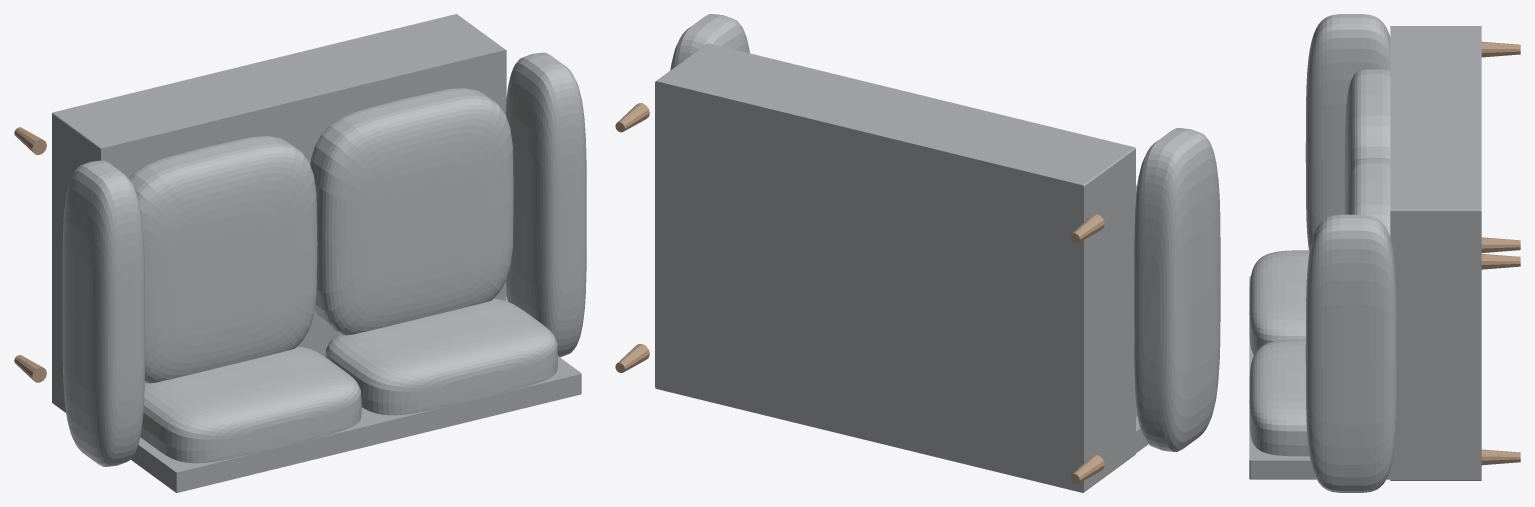
Rendered from sofa_2.glb.
3 views of the same model, side by side, from view 1: azimuth 30°, elevation 25°; view 2: azimuth 150°, elevation 25°; view 3: azimuth 270°, elevation 25° (orthographic). The views are drawn at different scales.
Parts seen in each view (by area): view 1: seat_cushion_1, seat_cushion_0, frame, arm, arm_6, back_cushion_0, back_cushion_1, back_frame; view 2: frame, arm, arm_6; view 3: frame, arm_6, arm, back_cushion_1, back_cushion_0, seat_cushion_0, seat_cushion_1, back_frame, leg, leg_1, leg_2, leg_3.
Boxes of the visible parts, x1,y1,x2,y2 form: seat_cushion_1: (310, 88, 513, 335); seat_cushion_0: (129, 136, 317, 383); frame: (52, 14, 506, 412); arm: (62, 160, 144, 466); arm_6: (505, 52, 586, 357); back_cushion_0: (140, 346, 361, 463); back_cushion_1: (325, 298, 557, 415); back_frame: (130, 356, 581, 492); frame: (655, 43, 1135, 492); arm: (1134, 128, 1220, 451); arm_6: (670, 14, 749, 70); frame: (1390, 26, 1481, 480); arm_6: (1305, 214, 1397, 492); arm: (1305, 14, 1390, 250); back_cushion_1: (1249, 339, 1309, 456); back_cushion_0: (1249, 250, 1309, 354); seat_cushion_0: (1344, 69, 1390, 214); seat_cushion_1: (1345, 158, 1390, 237); back_frame: (1249, 276, 1402, 479); leg: (1481, 254, 1520, 269); leg_1: (1481, 41, 1520, 57); leg_2: (1481, 449, 1520, 465); leg_3: (1481, 237, 1520, 252).
Bounding box in the file's own units: 1.5 × 0.85 × 0.77.
